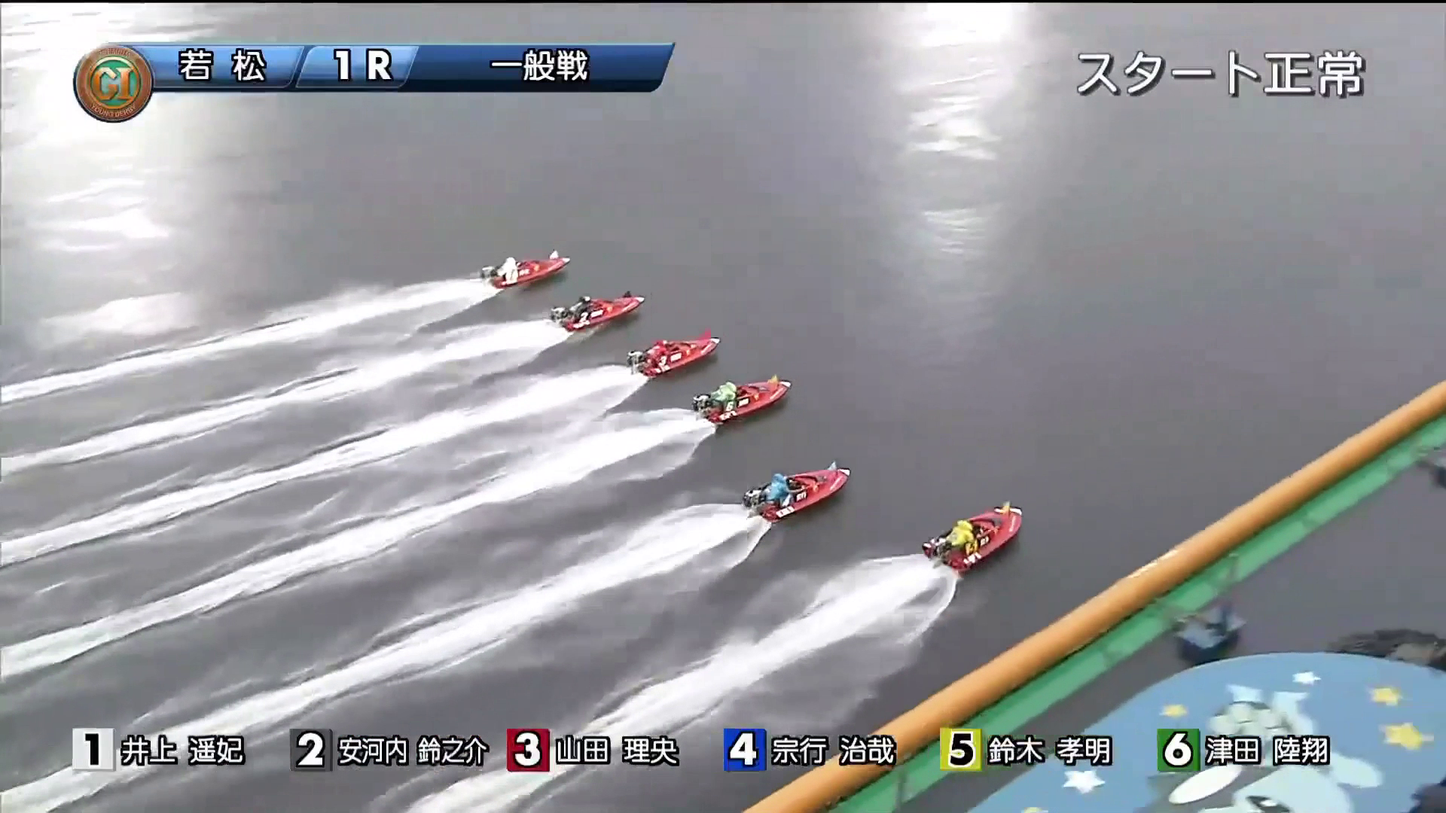１号艇: (703, 293, 778, 333)
２号艇: (612, 299, 701, 337)
３号艇: (648, 339, 739, 380)
４号艇: (685, 390, 790, 433)
５号艇: (692, 459, 812, 514)
６号艇: (825, 511, 925, 568)
